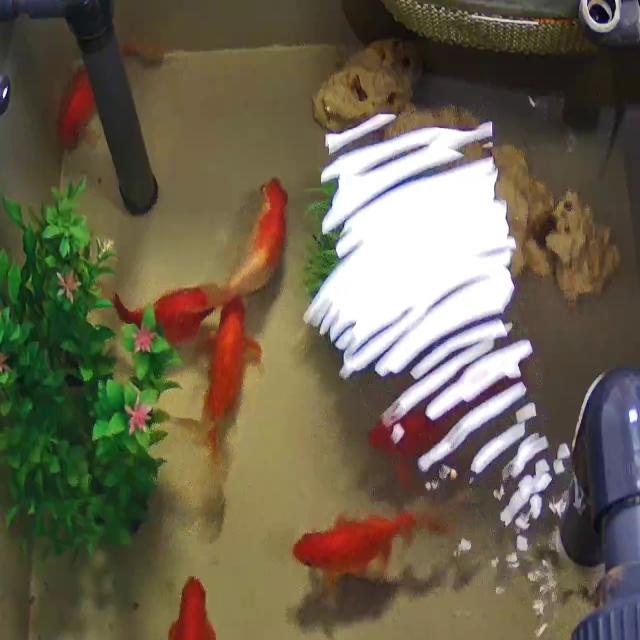fish: (166, 298, 256, 479), (268, 503, 432, 600), (222, 159, 294, 325), (112, 273, 226, 337), (50, 51, 110, 169), (152, 563, 228, 640)
